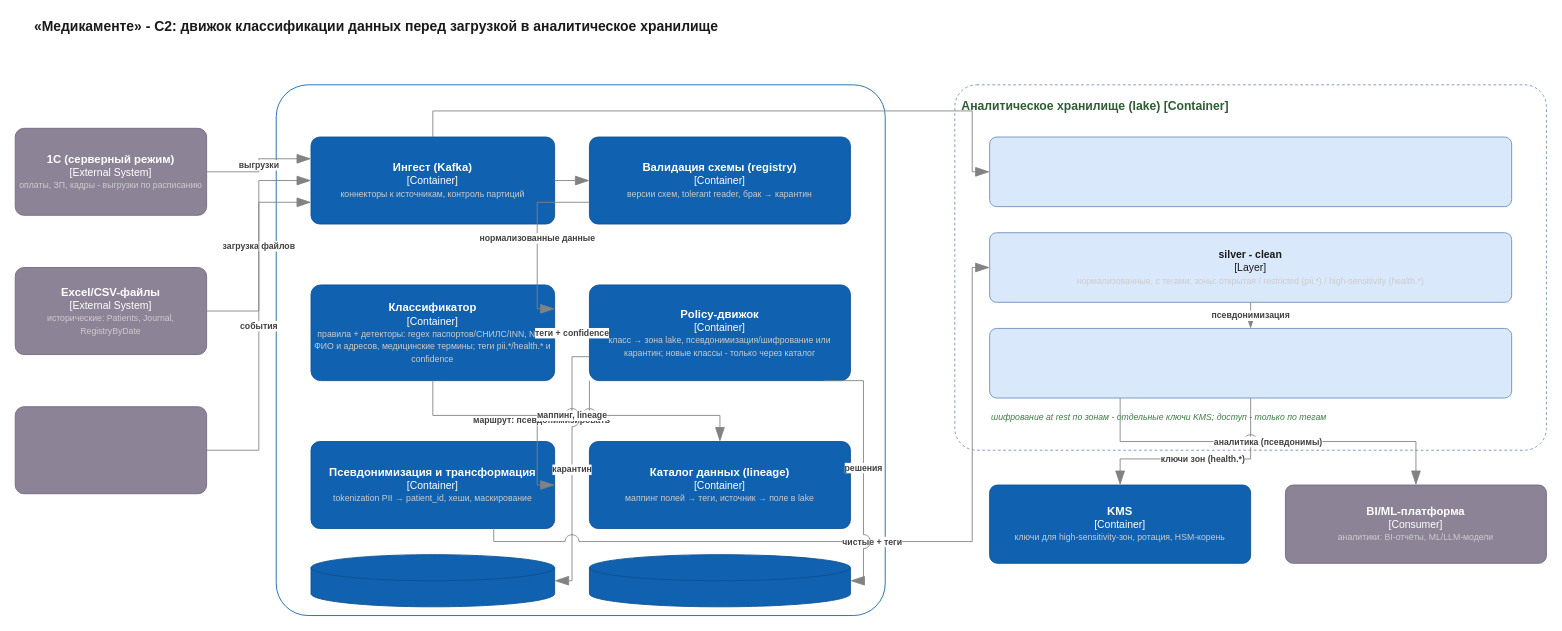
This 1562x631 diagram has some shape labels left out. The box of each missing label's shape, as (x1, y1, x2, y2) in pixels:
bronze - raw [Layer] исходные пакеты, 30 дней, доступ только движку: (989, 136, 1512, 207)
CRM / API лаборатории [External System] медкарты и анализы (уже с псевдонимами): (14, 406, 207, 494)
gold - аналитика [Layer] псевдонимизированные данные для BI/ML/LLM: (989, 328, 1512, 398)
Аудит-лог (SIEM) [Storage]: (589, 554, 850, 607)
Движок классификации данных [Container] пакетная обработка до загрузки в lake: (275, 84, 885, 616)
Карантин (hold) [Storage]: (310, 554, 555, 607)
